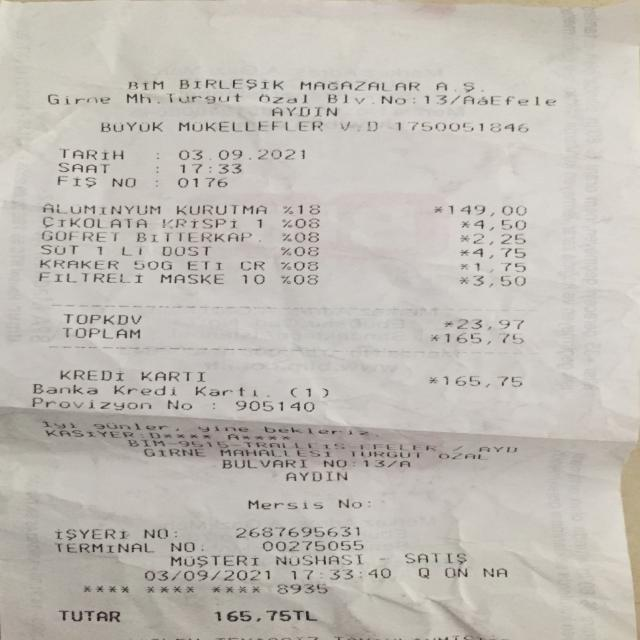text: (178, 118, 322, 132), (178, 146, 304, 162), (397, 118, 526, 133), (26, 396, 150, 411), (300, 78, 419, 93), (42, 200, 159, 215), (235, 524, 358, 538), (137, 229, 250, 244), (126, 91, 238, 106), (256, 424, 372, 438), (144, 568, 268, 581), (40, 270, 142, 285), (178, 77, 282, 91), (42, 214, 146, 228), (54, 540, 154, 554), (262, 538, 362, 552), (290, 566, 390, 580), (176, 201, 266, 216), (169, 553, 258, 568), (213, 609, 316, 621), (220, 448, 328, 459), (443, 373, 522, 388), (62, 325, 139, 340), (41, 228, 117, 243), (39, 256, 117, 270), (63, 312, 141, 326), (236, 399, 314, 413), (195, 383, 260, 399), (247, 497, 321, 511), (59, 146, 123, 162), (246, 440, 345, 450), (53, 527, 128, 540), (477, 95, 557, 107), (180, 160, 240, 176), (403, 551, 466, 566), (448, 204, 526, 216), (160, 271, 222, 286), (33, 381, 95, 396), (113, 382, 175, 397), (457, 317, 522, 331), (445, 331, 515, 344), (140, 368, 204, 382), (60, 368, 123, 382), (47, 91, 109, 105), (100, 118, 162, 132), (58, 608, 119, 622), (221, 458, 305, 468), (58, 159, 109, 175), (285, 469, 346, 482), (45, 429, 132, 438), (272, 105, 336, 117), (178, 174, 226, 190), (473, 274, 525, 288), (162, 243, 210, 258), (92, 421, 162, 431), (473, 218, 525, 231), (473, 247, 525, 260), (359, 442, 434, 451), (256, 92, 311, 104), (277, 582, 327, 595), (473, 232, 525, 244), (473, 261, 525, 273), (143, 447, 204, 457), (351, 450, 418, 459), (58, 173, 95, 189), (338, 118, 376, 133), (134, 256, 171, 271), (327, 92, 362, 106), (432, 81, 476, 92), (200, 423, 248, 433), (128, 76, 162, 90), (242, 432, 289, 442), (187, 257, 220, 271), (38, 419, 80, 430), (164, 431, 209, 440), (180, 439, 224, 448), (438, 451, 480, 460), (381, 92, 405, 107), (443, 565, 467, 580), (118, 244, 148, 256), (142, 526, 167, 540), (112, 174, 135, 189), (294, 230, 318, 244), (240, 257, 264, 271), (167, 398, 191, 412), (337, 497, 361, 511), (170, 539, 194, 553), (482, 565, 506, 579), (294, 258, 317, 272), (294, 272, 317, 286), (479, 445, 518, 453), (127, 438, 161, 447), (426, 92, 446, 107), (298, 202, 319, 216), (242, 272, 263, 286), (294, 244, 317, 256), (323, 458, 345, 468), (362, 458, 383, 468), (417, 565, 428, 580), (280, 258, 290, 272), (281, 272, 290, 287), (283, 202, 292, 216), (459, 274, 468, 288), (280, 244, 290, 256), (429, 373, 437, 388), (282, 216, 291, 229), (368, 92, 376, 106), (411, 92, 419, 106), (282, 230, 290, 244), (433, 204, 442, 216), (440, 321, 455, 328), (460, 247, 468, 260), (430, 331, 438, 344), (399, 458, 409, 468), (453, 92, 460, 106), (464, 92, 471, 106), (450, 444, 464, 451), (460, 232, 468, 244), (96, 242, 102, 257), (379, 552, 385, 566), (290, 384, 295, 400), (227, 432, 237, 440), (387, 458, 395, 468), (148, 431, 159, 438), (462, 219, 468, 231), (305, 384, 309, 400), (322, 385, 326, 400), (256, 216, 260, 229), (461, 261, 465, 273), (170, 438, 174, 447), (234, 439, 238, 448), (139, 431, 142, 438), (212, 398, 213, 412), (352, 458, 353, 468)
